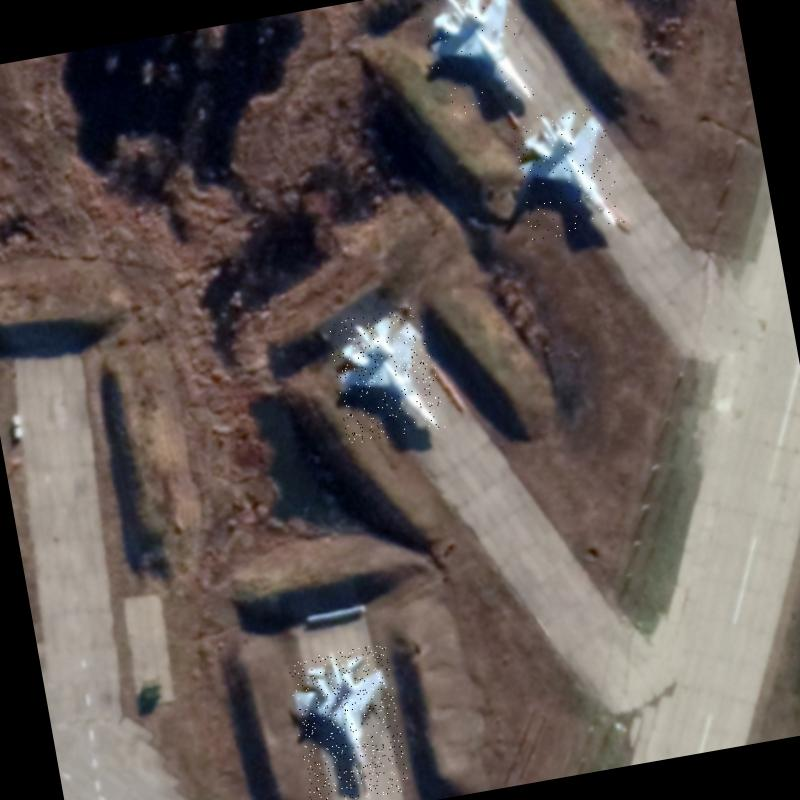A1: (285, 643, 410, 800), (326, 304, 446, 444), (510, 100, 626, 242), (417, 0, 539, 118)
